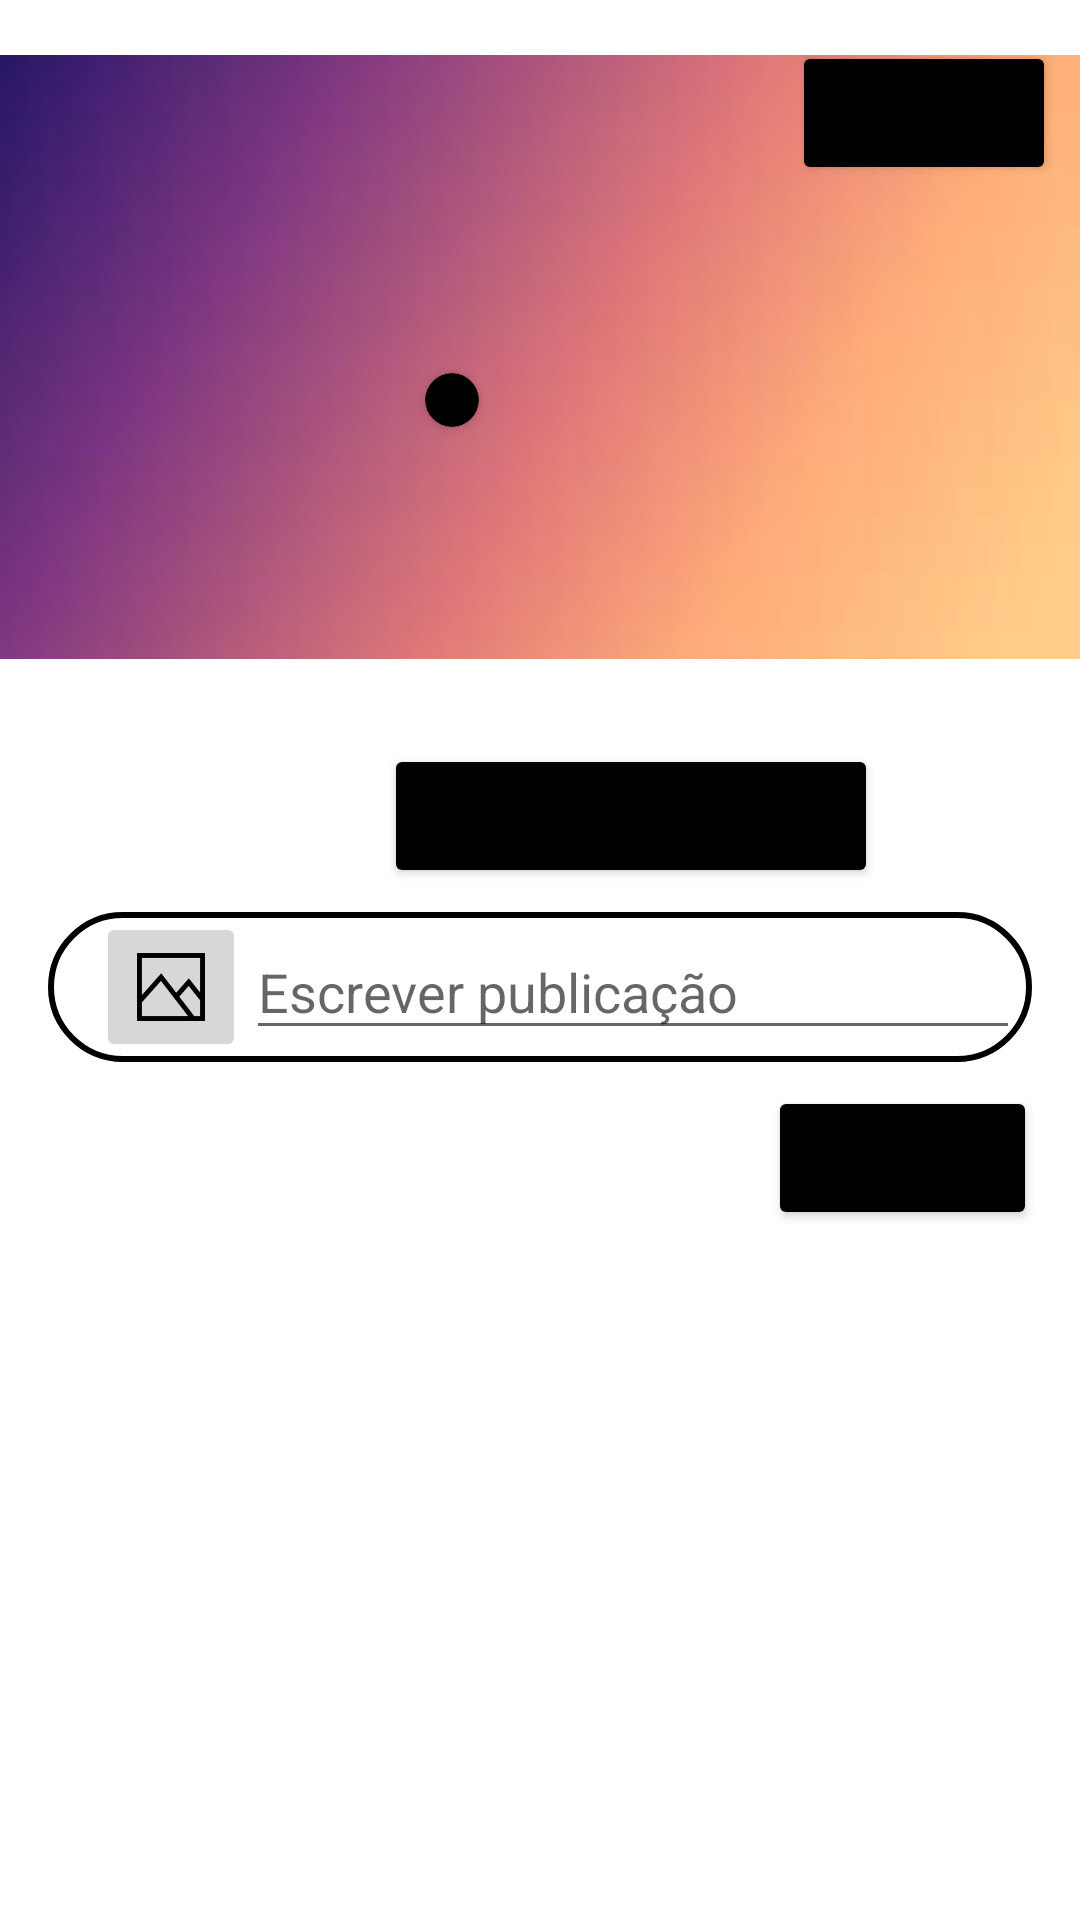

Point at icon controls on the screen. Image size 1080*1920, points as (x=x, y=y).
gallery: (x=171, y=987)
